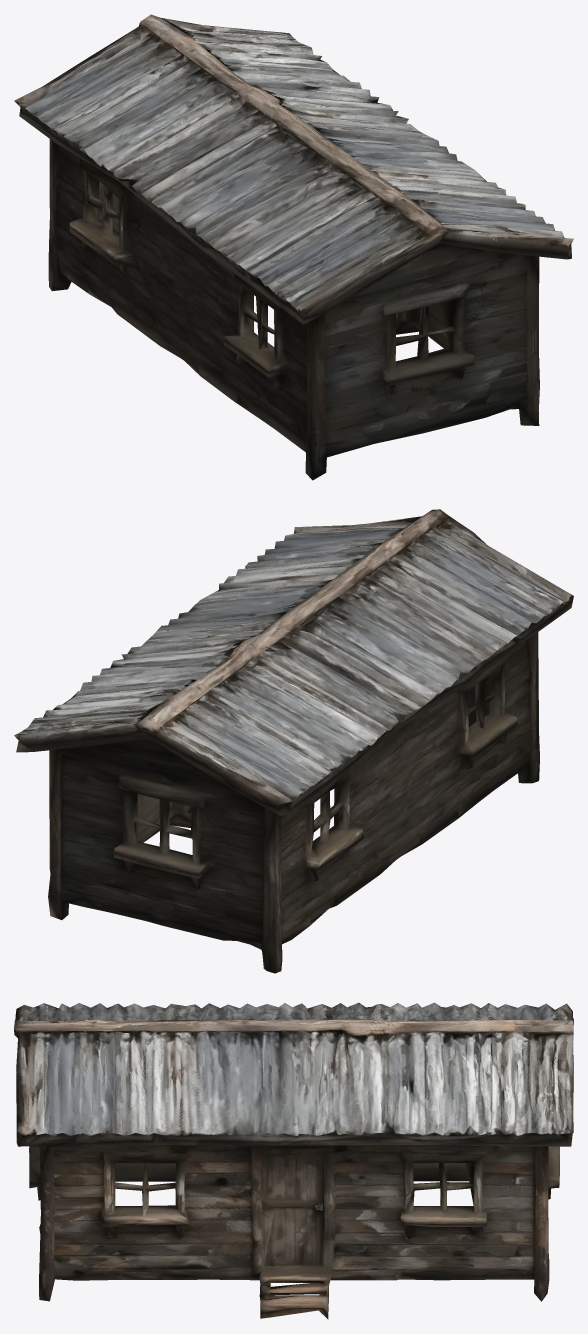
File: b_barracks.glb
3 renders of one model, top to bottom at view 1: azimuth 30°, elevation 25°; view 2: azimuth 150°, elevation 25°; view 3: azimuth 270°, elevation 25°, orthographic. The views are drawn at different scales.
Parts seen in each view (by area): view 1: tripo_node_a852a449-98b1-4ab6-9fff-efdaad6f7b5e; view 2: tripo_node_a852a449-98b1-4ab6-9fff-efdaad6f7b5e; view 3: tripo_node_a852a449-98b1-4ab6-9fff-efdaad6f7b5e.
Part boxes in pixels (box(x1,y1,x2,y2)): tripo_node_a852a449-98b1-4ab6-9fff-efdaad6f7b5e: box(14, 14, 573, 480); tripo_node_a852a449-98b1-4ab6-9fff-efdaad6f7b5e: box(14, 509, 573, 973); tripo_node_a852a449-98b1-4ab6-9fff-efdaad6f7b5e: box(14, 1002, 573, 1319).
Bounding box in the file's own units: 0.5778 × 0.4507 × 1.
Materials: 1 (1 with a texture image).
